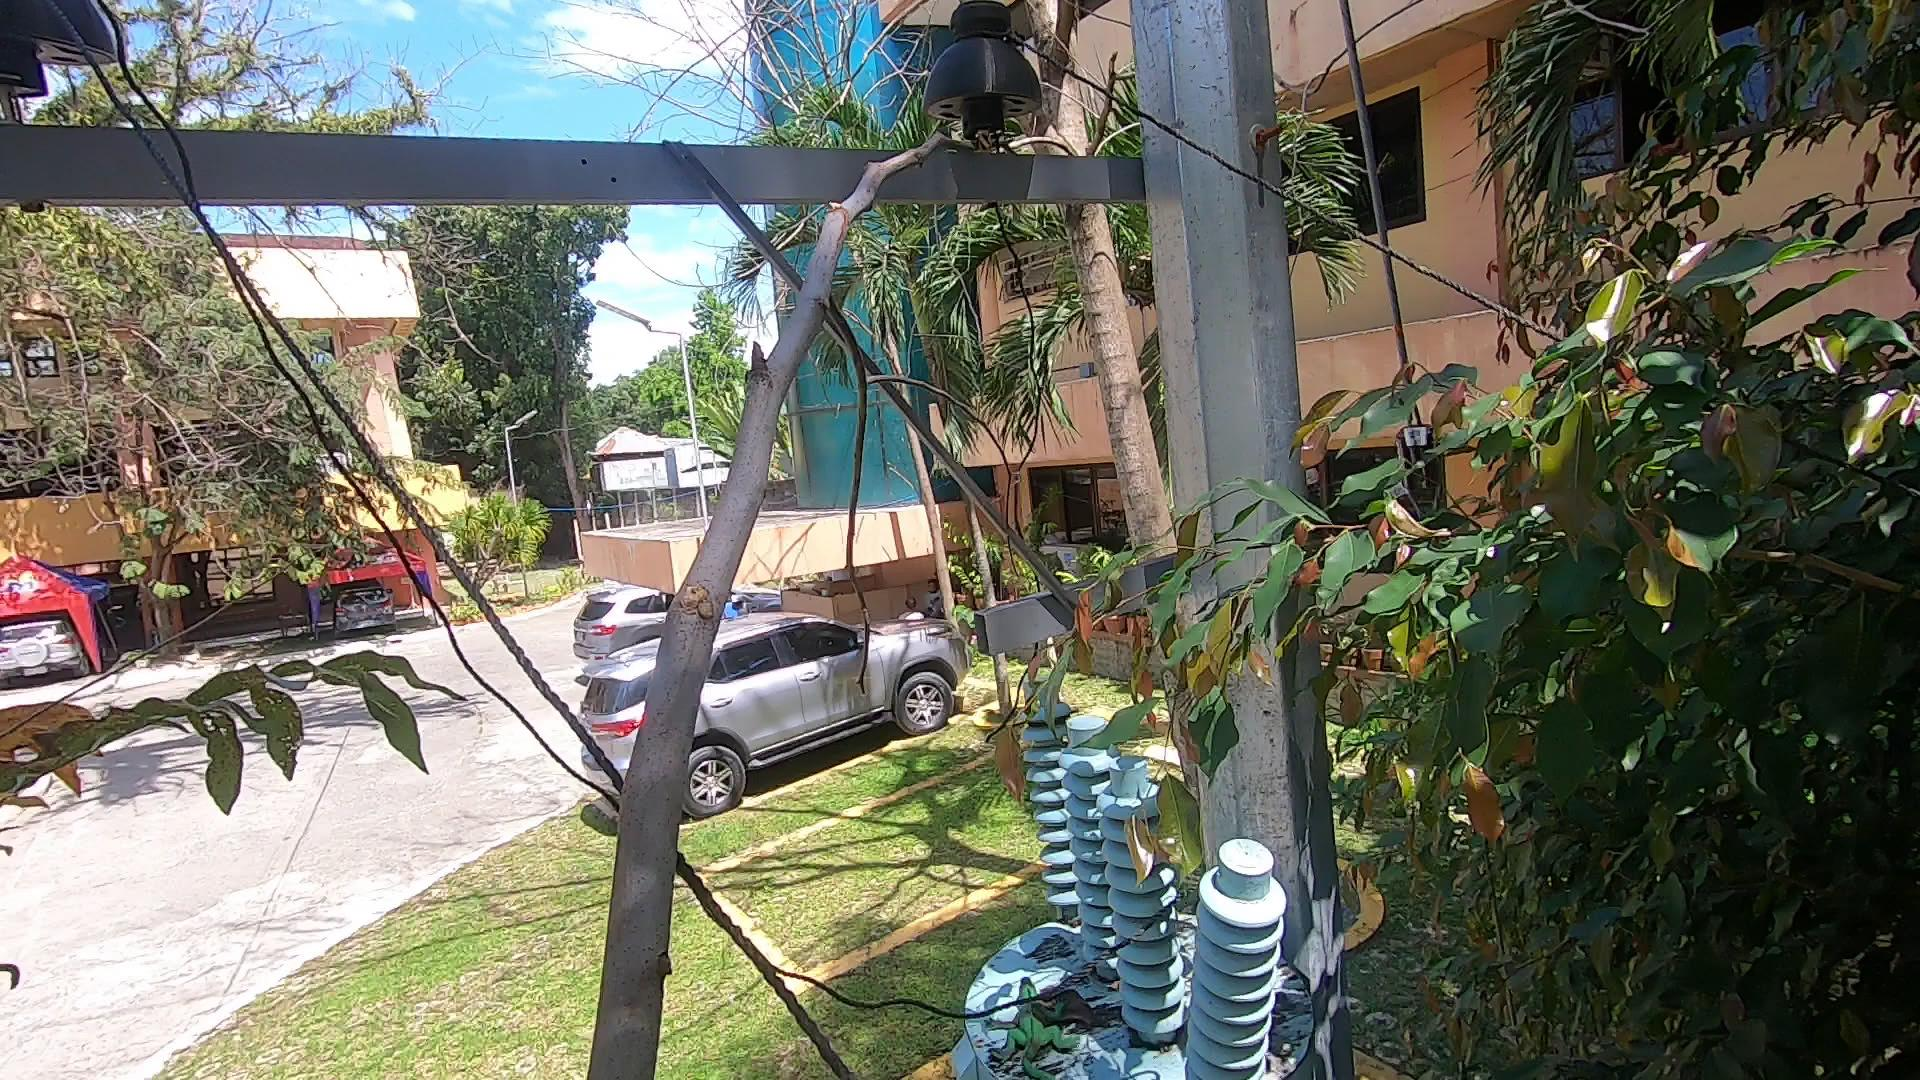branch with leaves: (1000, 455, 1284, 890)
leaf: (1039, 980, 1137, 1040)
tree branch: (570, 74, 972, 1080)
